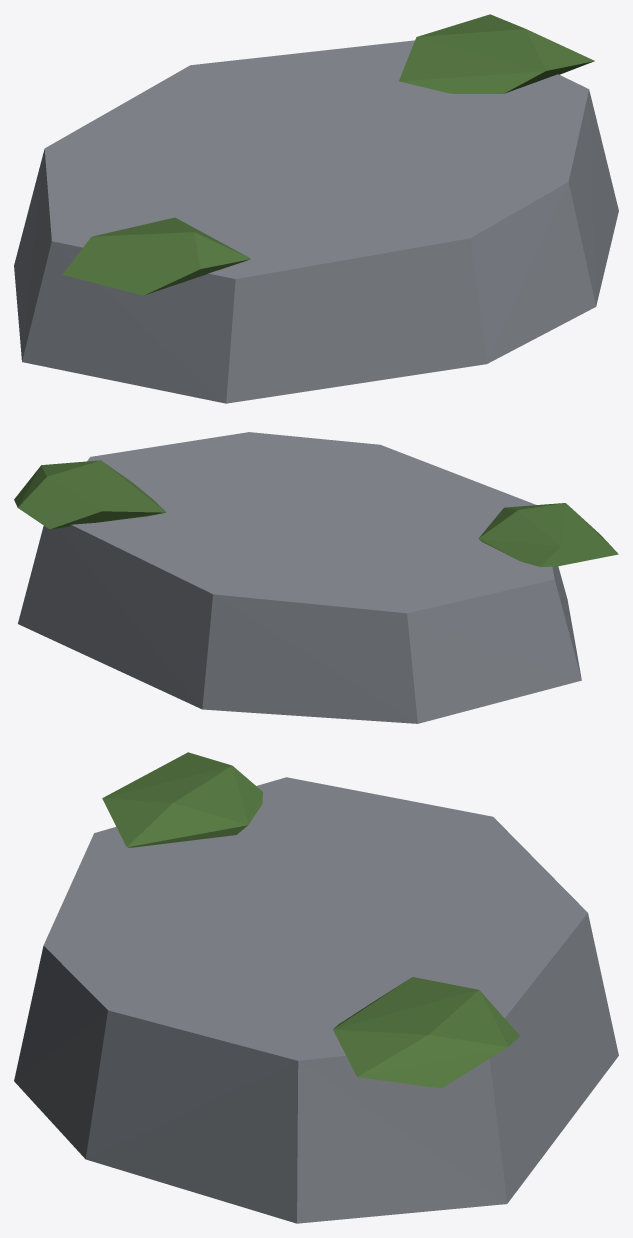
Rendered from Rock_Slab.fbx.
3 views of the same model, one above another, from view 1: azimuth 30°, elevation 25°; view 2: azimuth 150°, elevation 25°; view 3: azimuth 270°, elevation 25° (orthographic). The views are drawn at different scales.
Visible parts, largest first — view 1: Slab, Moss; view 2: Slab, Moss; view 3: Slab, Moss.
Part boxes in pixels (x1,y1,x2,y2): Slab: (14,40,618,403); Moss: (62,14,594,295); Slab: (18,432,581,723); Moss: (14,460,618,567); Slab: (14,777,618,1223); Moss: (102,752,519,1088).
Size of the model in its own units: 3.78 by 0.8825 by 2.86.
